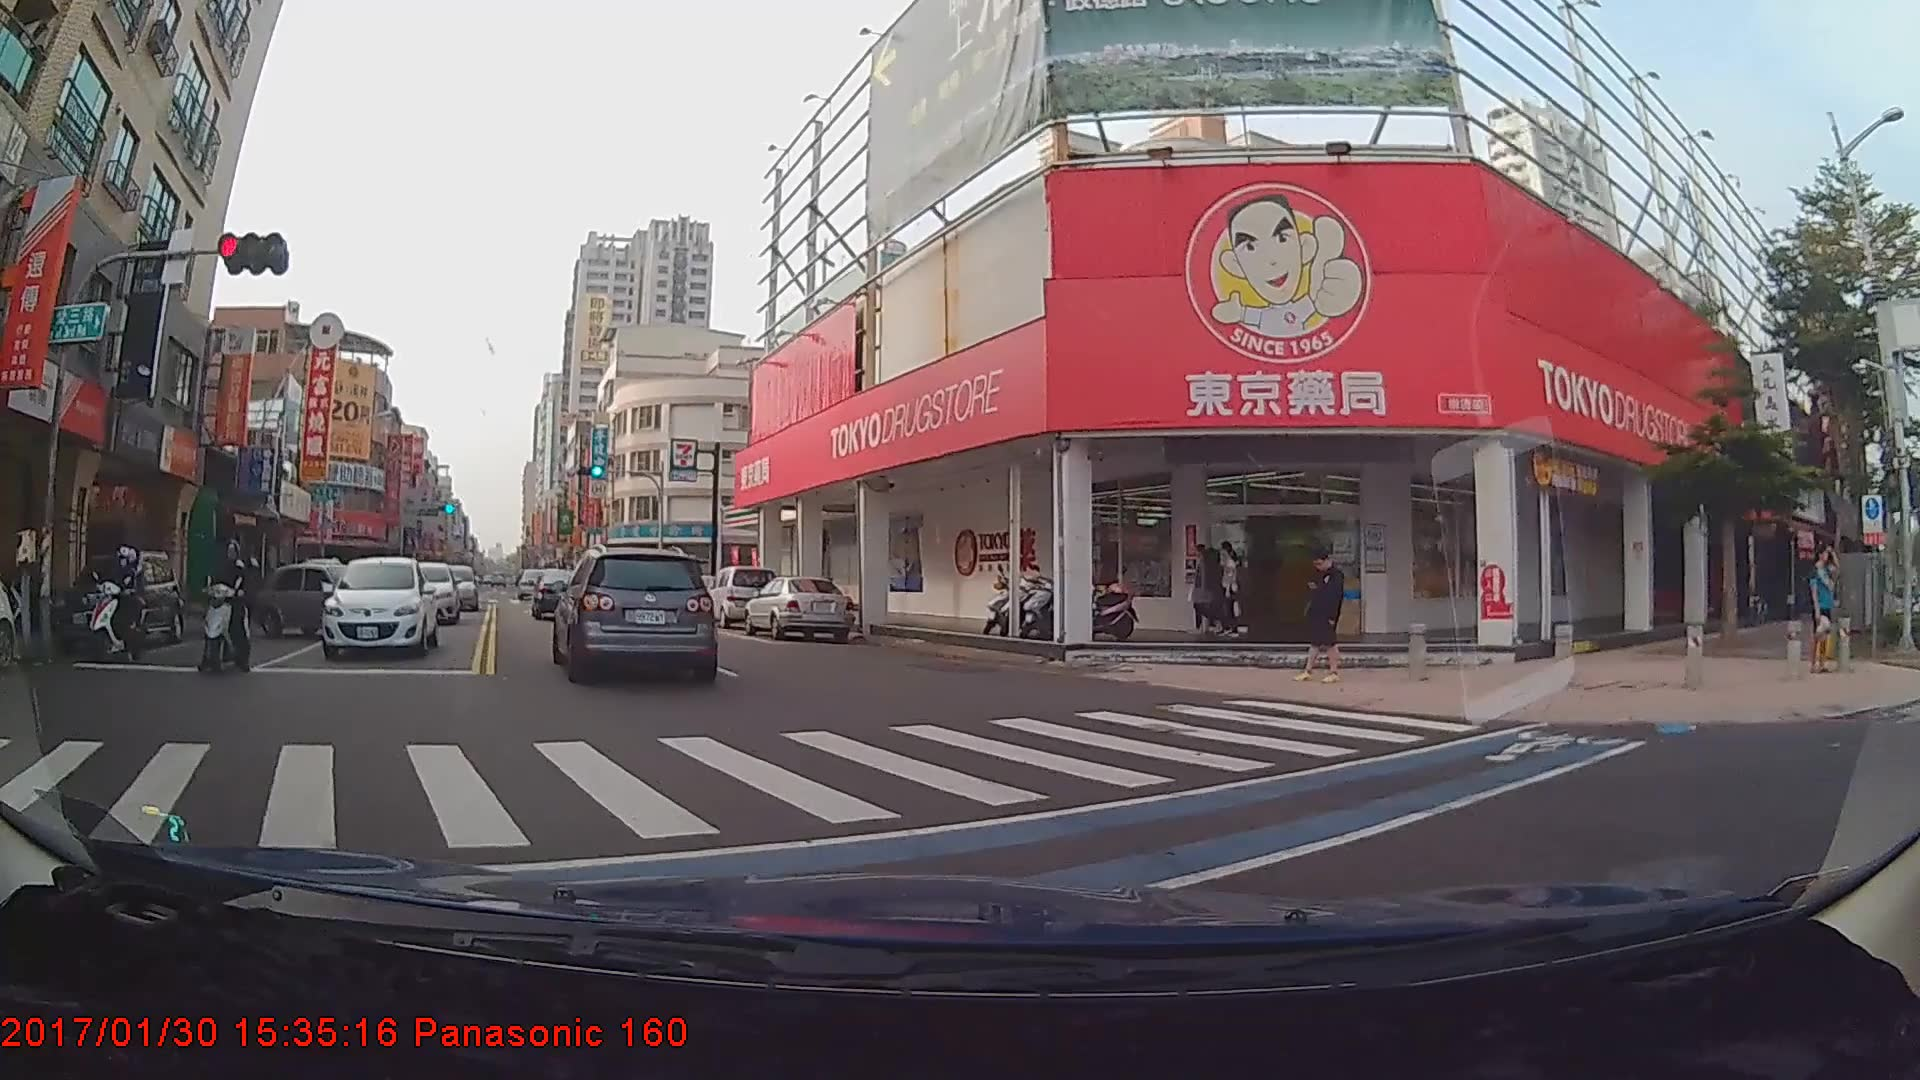pedestrian: (1297, 543, 1346, 687), (1804, 550, 1843, 685), (1188, 548, 1225, 642), (1213, 544, 1247, 637)
rider: (75, 552, 161, 669), (196, 539, 262, 676)
vehicle: (556, 547, 715, 683), (48, 549, 186, 661), (321, 563, 436, 665), (258, 562, 380, 639), (743, 573, 854, 643), (700, 566, 780, 631), (389, 561, 457, 626), (429, 564, 477, 613)
